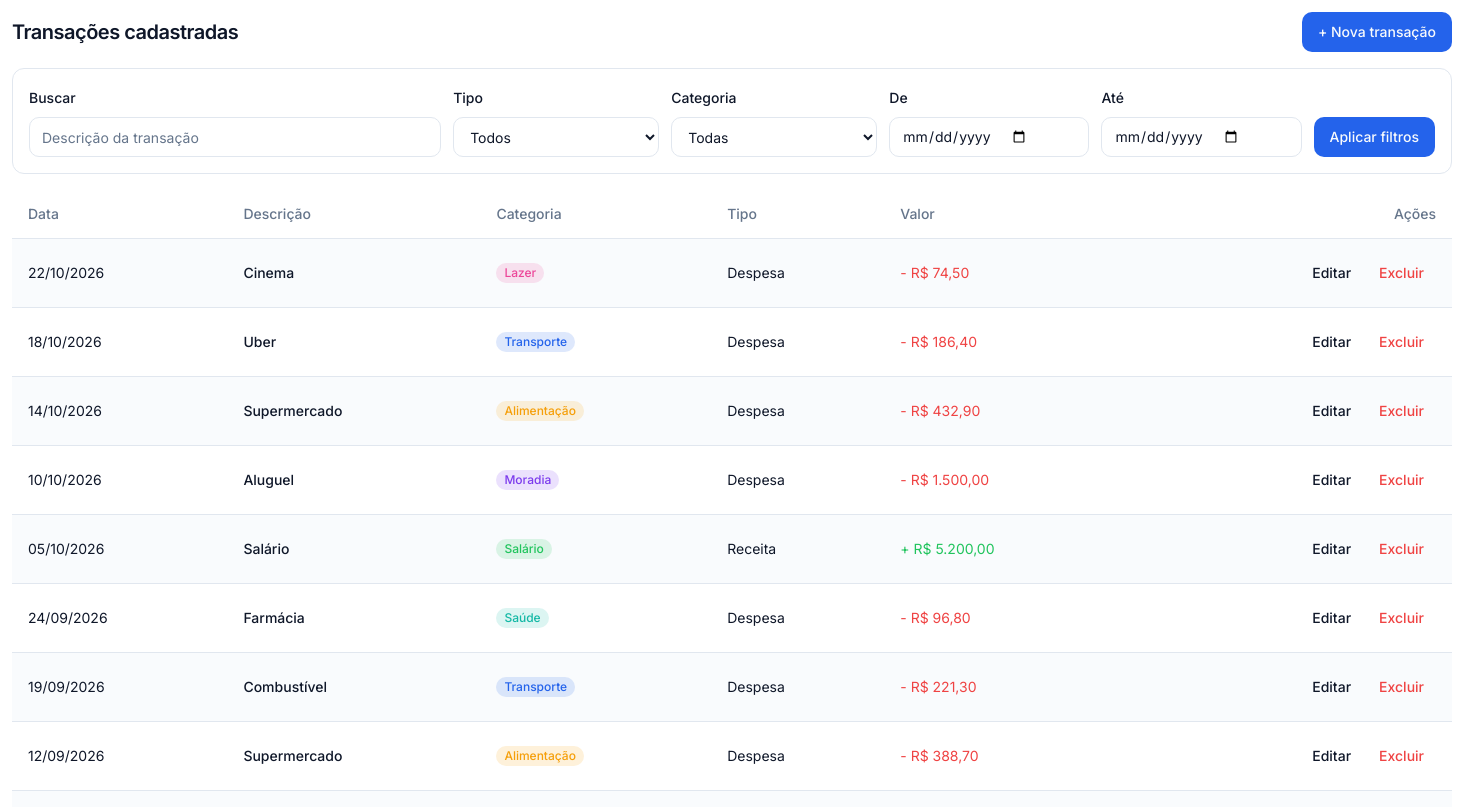
TransactionsPage (AC-004, AC-007, AC-009) › mostra o estado vazio quando nenhum filtro encontra resultados
Type "zzz-inexistente" into the search field labelled "Buscar" at (235,137), box [29,117,441,157]
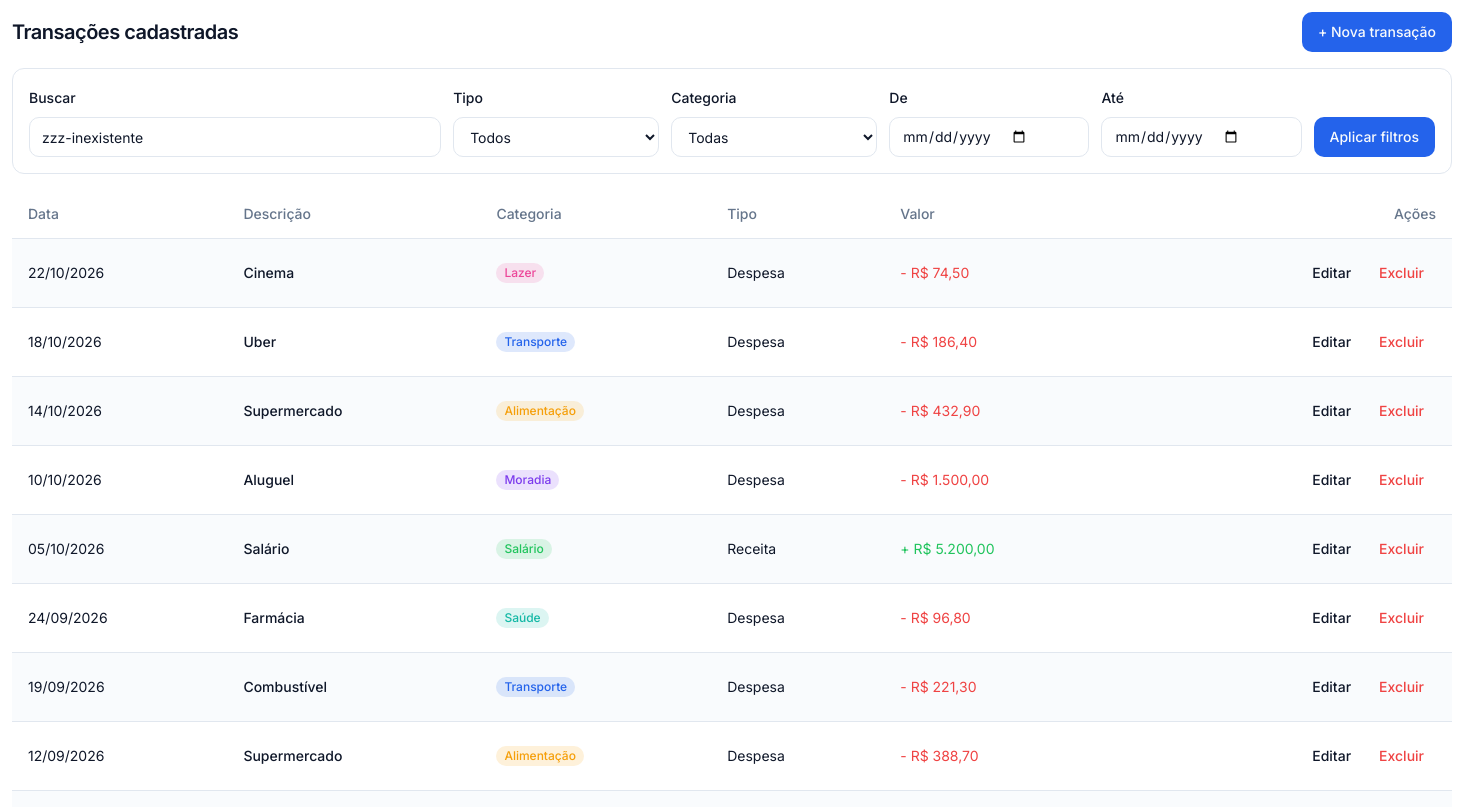
Click the button "Aplicar filtros" at (1374,137), box [1314,117,1435,157]
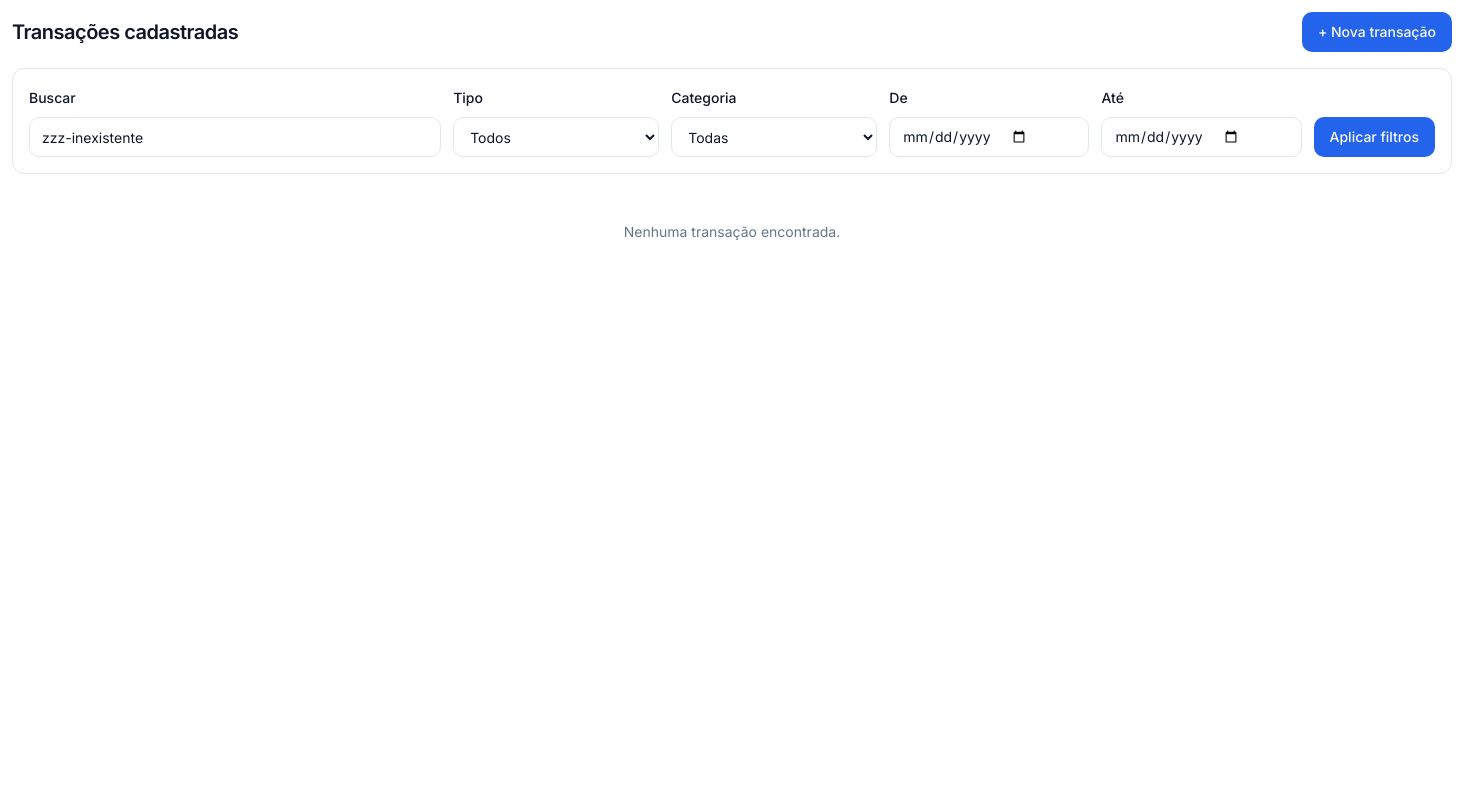
expect the message reads "Nenhuma transação encontrada.": met, box [624,223,840,240]
